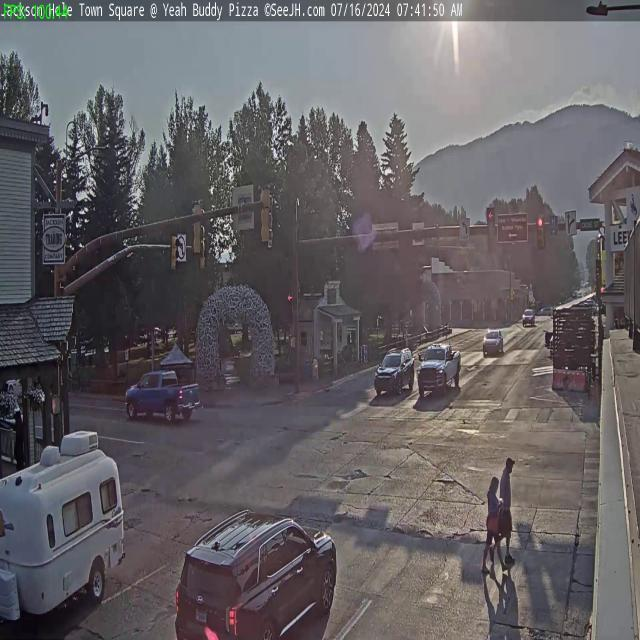person: (498, 456, 520, 574), (484, 474, 506, 580)
pickup: (122, 368, 202, 427), (416, 342, 462, 394)
suv: (174, 502, 338, 640), (374, 346, 414, 396), (482, 326, 504, 354), (521, 308, 536, 326)
traffic light: (190, 199, 203, 257), (260, 184, 272, 246), (486, 208, 496, 254), (170, 233, 180, 272), (536, 215, 544, 248)
